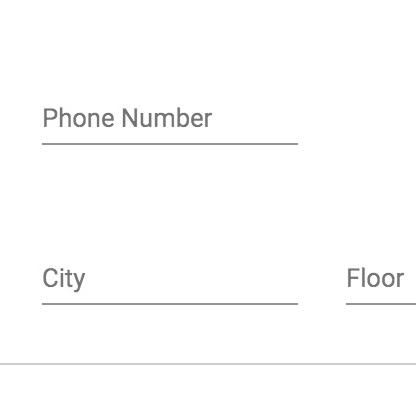field: (39, 97, 300, 147), (37, 260, 303, 309)
